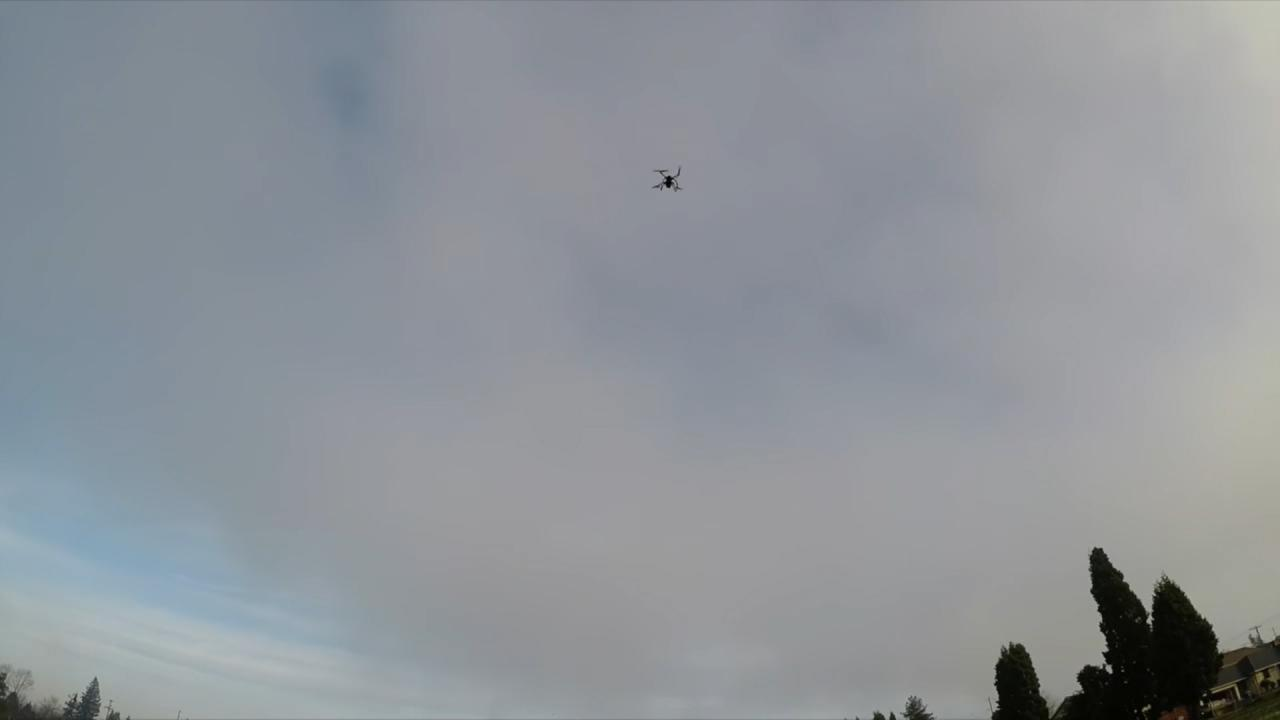Drone: (646, 156, 692, 204)
